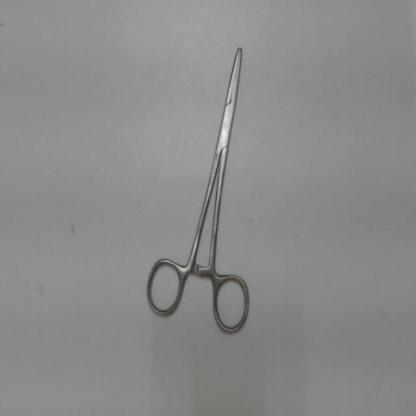Mayo Needle Holder: (137, 29, 258, 345)
